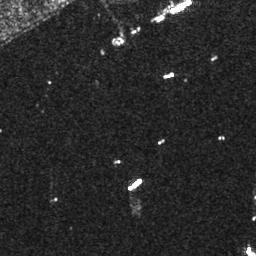ship: (171, 1, 192, 14), (127, 176, 142, 192), (154, 15, 166, 23), (163, 72, 174, 79), (158, 137, 165, 145), (113, 158, 122, 164), (210, 55, 218, 61)
